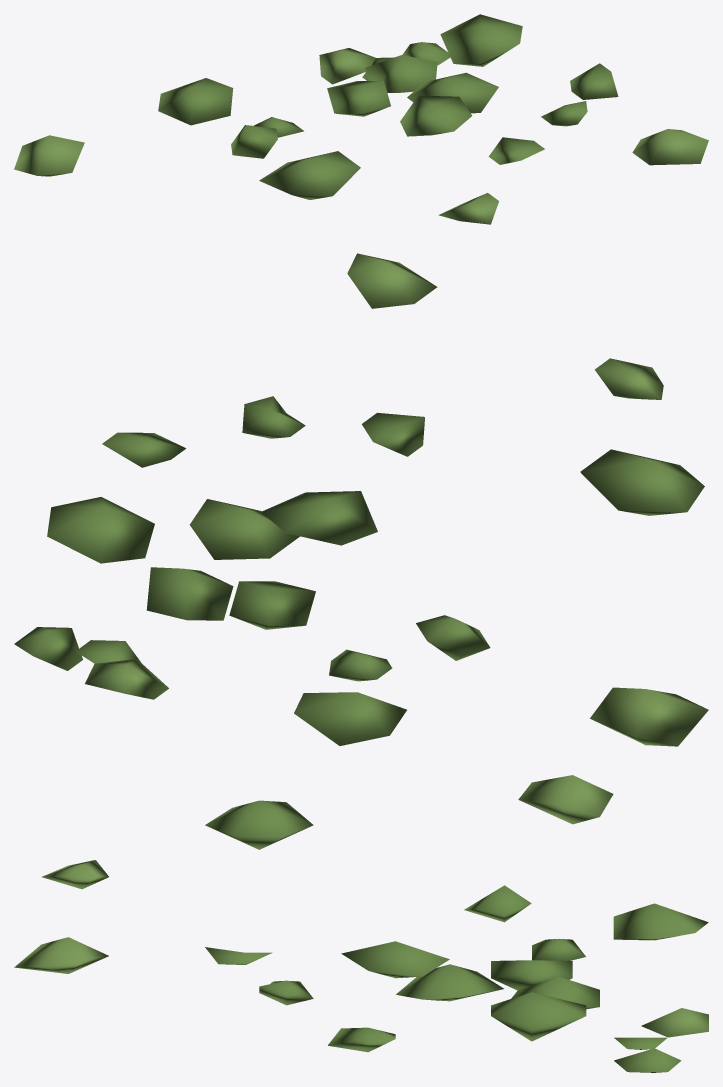
File: canopy-2-0-12.glb
The picture shows the model from 3 angles, top to bottom: view 1: azimuth 30°, elevation 25°; view 2: azimuth 150°, elevation 25°; view 3: azimuth 270°, elevation 25°; orthographic projection. The views are drawn at different scales.
Size of the model in its own units: 128 by 27.5 by 128.
1 material, 1 textured.
